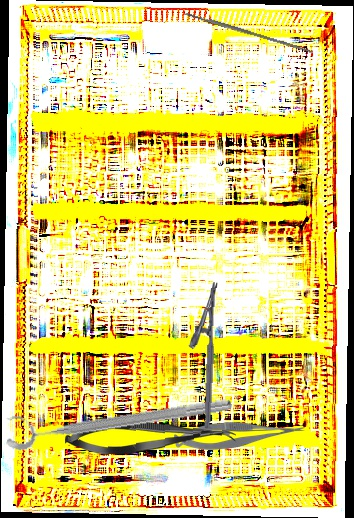Fixation Ring: (0, 380, 234, 453)
Micro Scissor: (64, 417, 237, 456), (174, 421, 305, 451)
Needle Holder: (184, 280, 219, 429)
Scalpel Handle: (184, 10, 314, 55)
